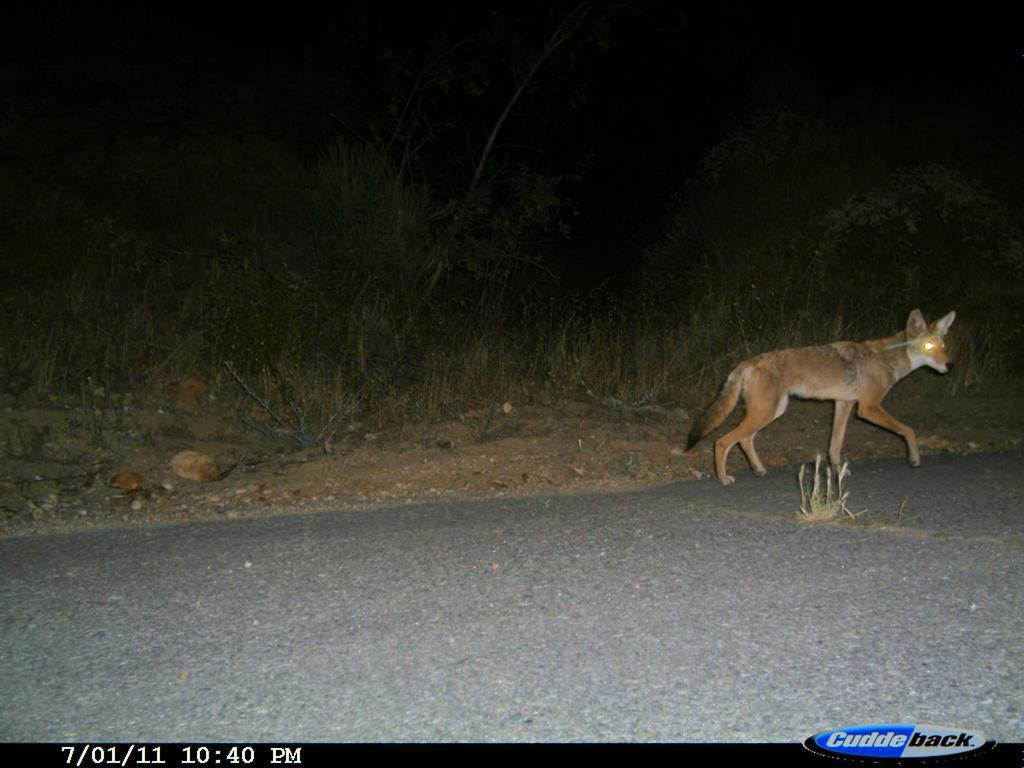coyote: (676, 305, 962, 493)
